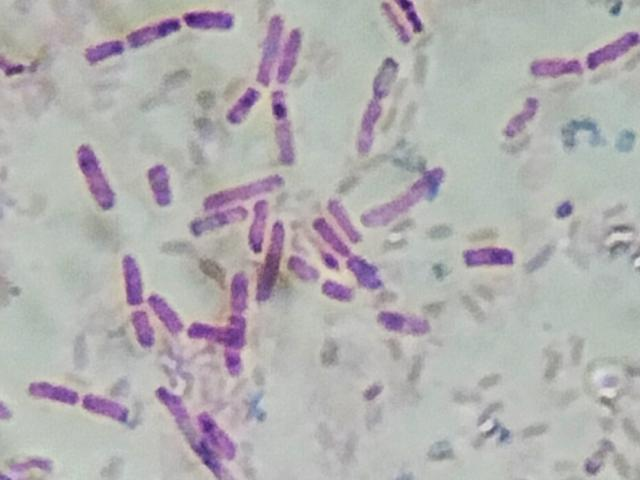E. coli: (359, 165, 450, 242), (162, 392, 231, 479), (75, 136, 118, 209), (260, 222, 294, 297), (500, 90, 544, 145), (591, 22, 640, 70), (272, 94, 303, 167), (353, 93, 390, 152), (253, 16, 286, 79), (129, 15, 182, 54), (113, 243, 147, 303), (184, 2, 241, 37), (187, 319, 251, 350), (461, 236, 514, 273), (378, 305, 434, 338), (326, 195, 366, 240), (147, 154, 178, 211), (275, 23, 301, 87), (532, 49, 583, 81), (153, 290, 188, 336), (31, 373, 84, 403), (229, 83, 262, 127), (84, 33, 123, 70), (85, 390, 129, 422), (313, 214, 347, 255), (202, 413, 236, 453), (286, 256, 330, 285), (226, 270, 248, 328), (349, 256, 387, 289), (372, 52, 401, 93), (380, 0, 408, 42), (322, 277, 363, 305), (222, 329, 250, 370), (133, 307, 158, 351), (252, 199, 272, 250), (399, 0, 427, 34)
